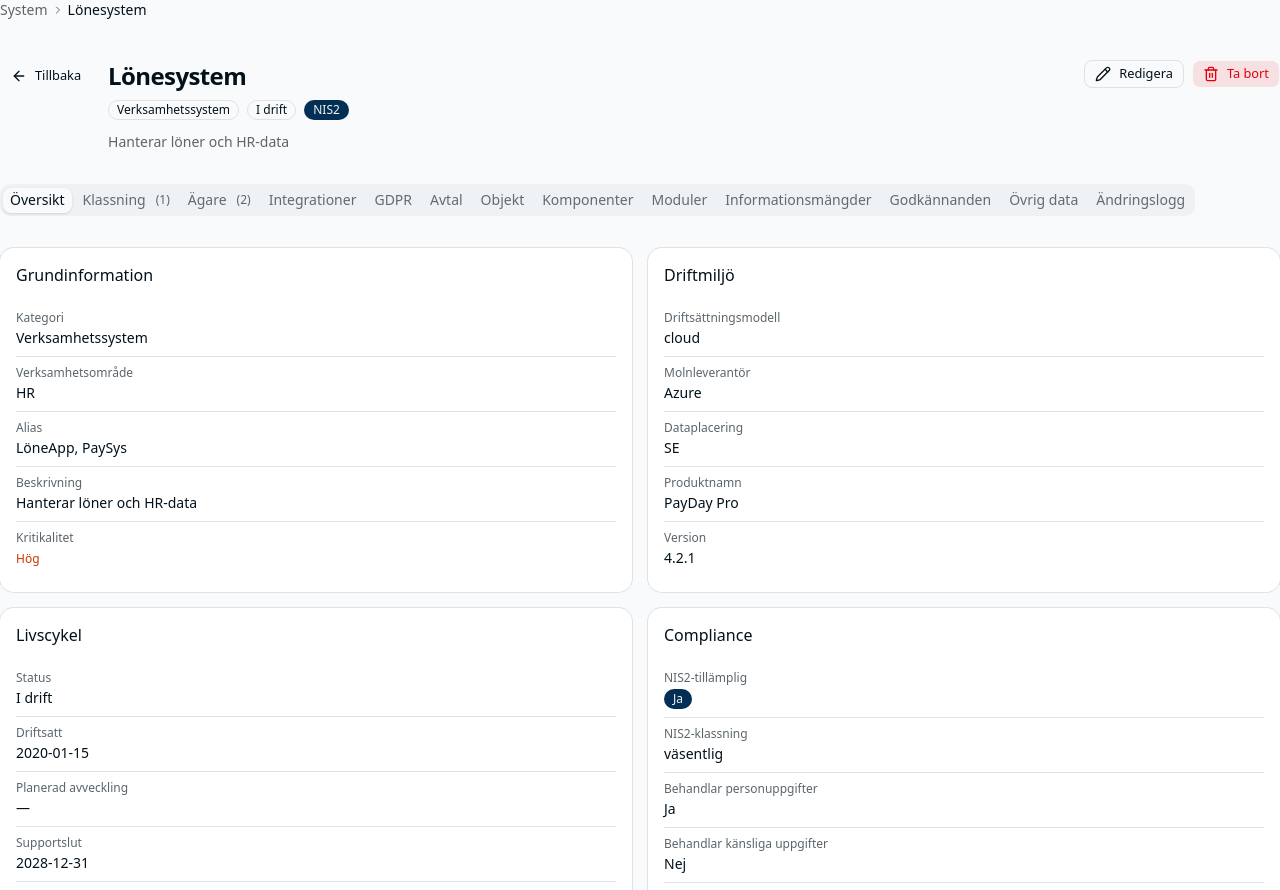
Scenario: SystemDetailPage › Radera-dialog › öppnar radera-dialog vid klick på Ta bort
This screenshot has width=1280, height=890.
Click the button "Ta bort" at (1236,74), box [1192,60,1279,88]
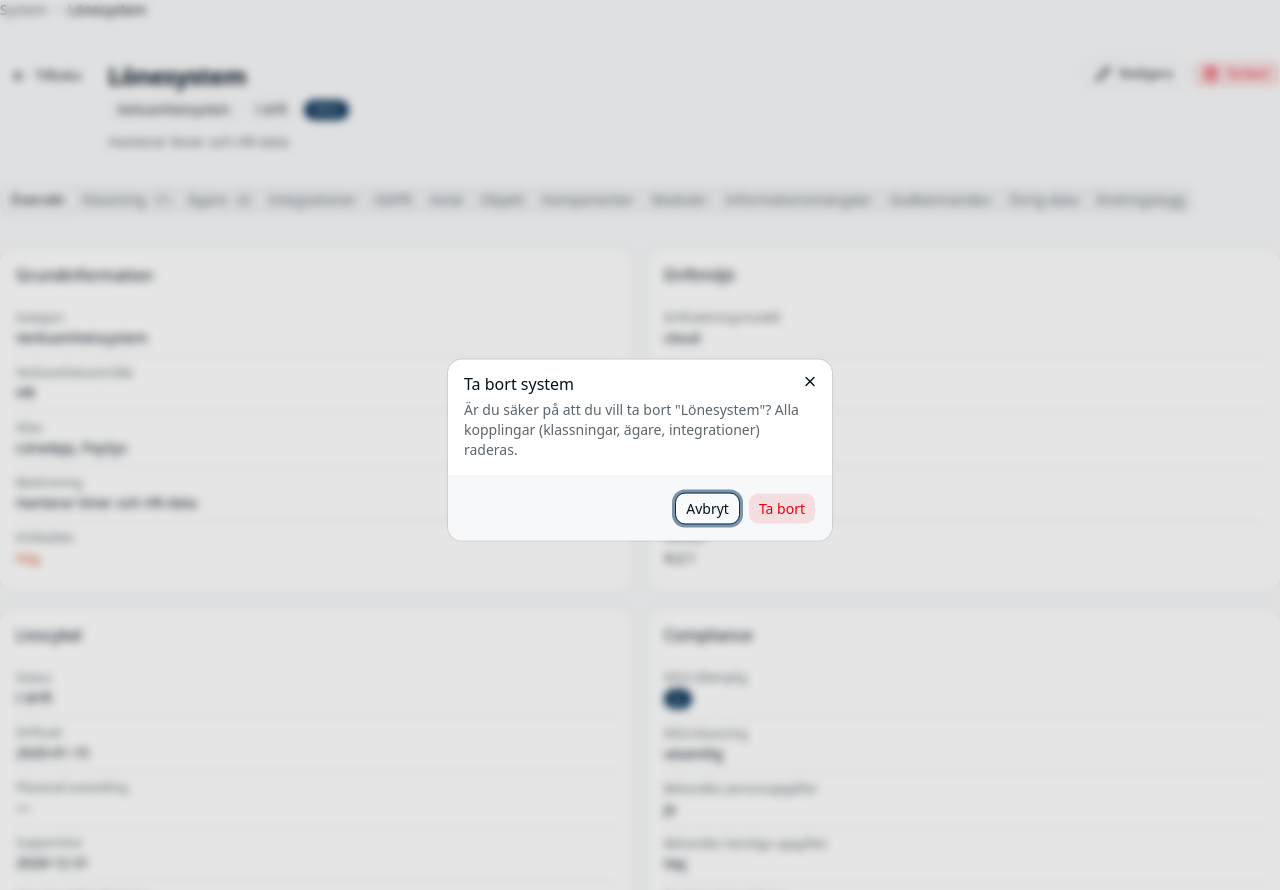
expect the heading "Ta bort system" is shown: met, box [464,372,574,394]
